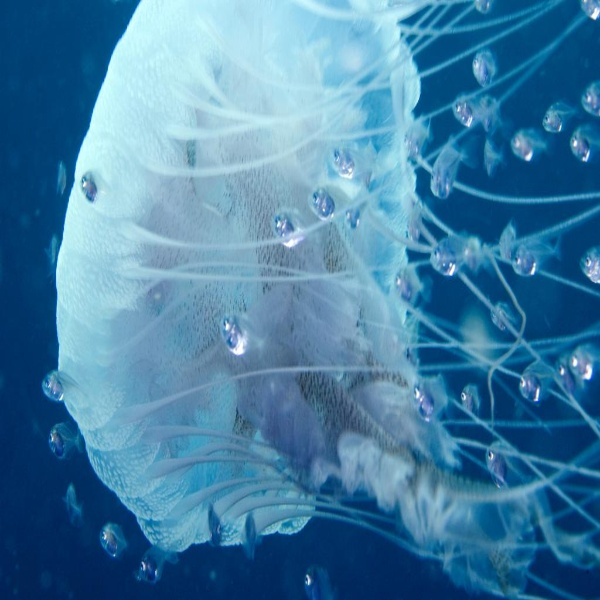Jellyfish: (45, 11, 582, 600)
